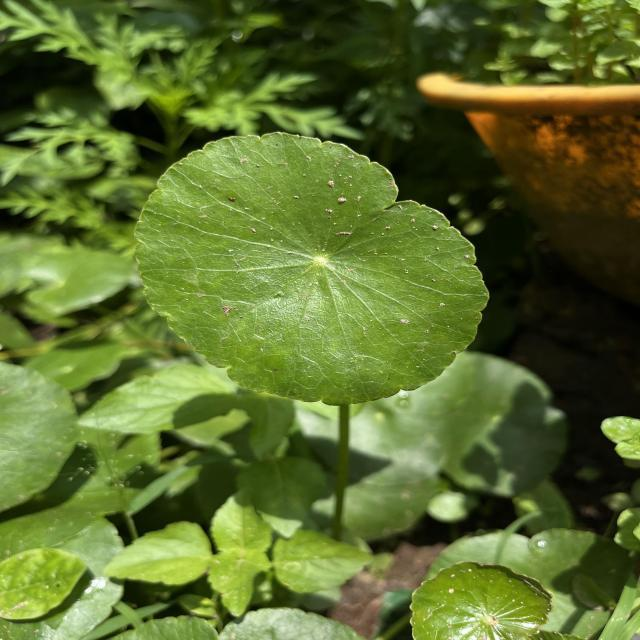Bacopa monnieri: (132, 130, 494, 410), (405, 557, 556, 640)
